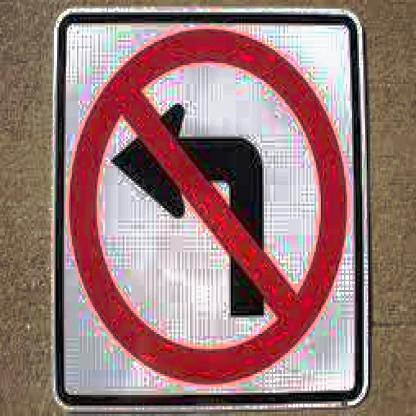No left turn: (62, 16, 359, 390)
